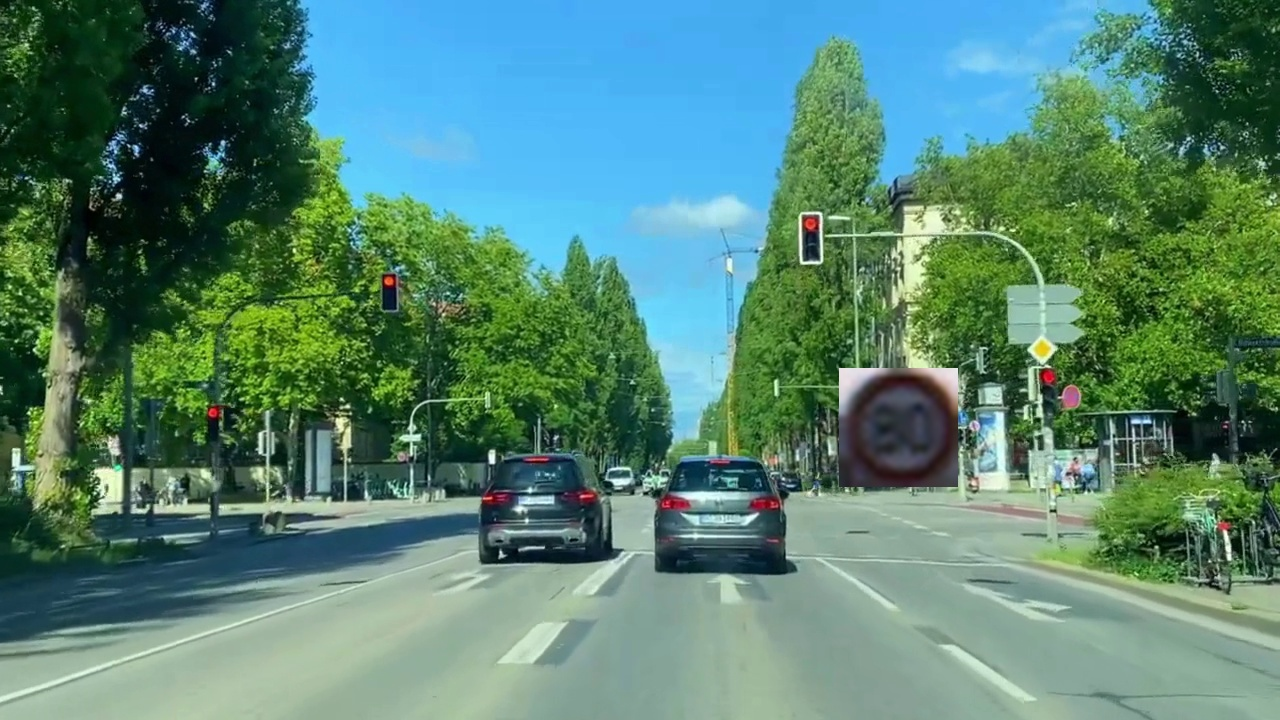Speed 80: (839, 368, 958, 487)
